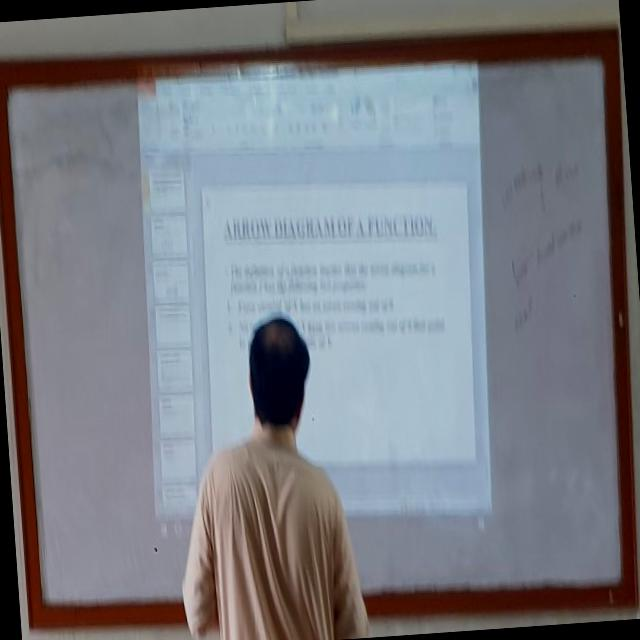Instructor: (186, 309, 345, 640)
Slide: (134, 58, 490, 552)
White-board: (0, 53, 634, 614)
